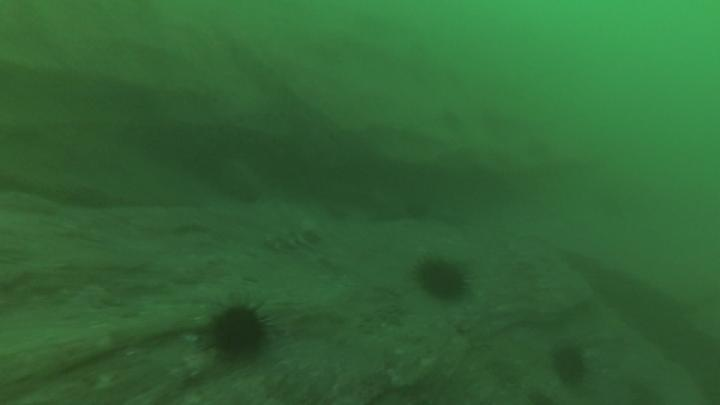echinus: (209, 301, 265, 366), (414, 252, 470, 306), (549, 342, 592, 391)
